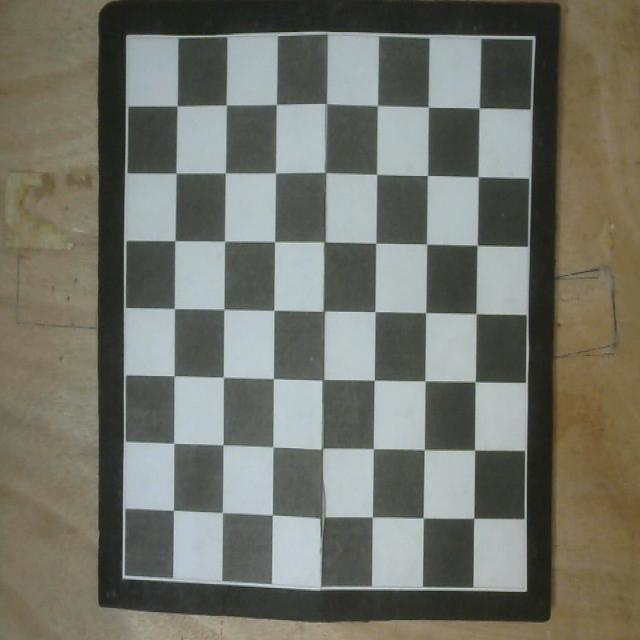chess-table-corners: (523, 586, 528, 594), (120, 574, 126, 580), (124, 32, 130, 38), (532, 33, 536, 40)
